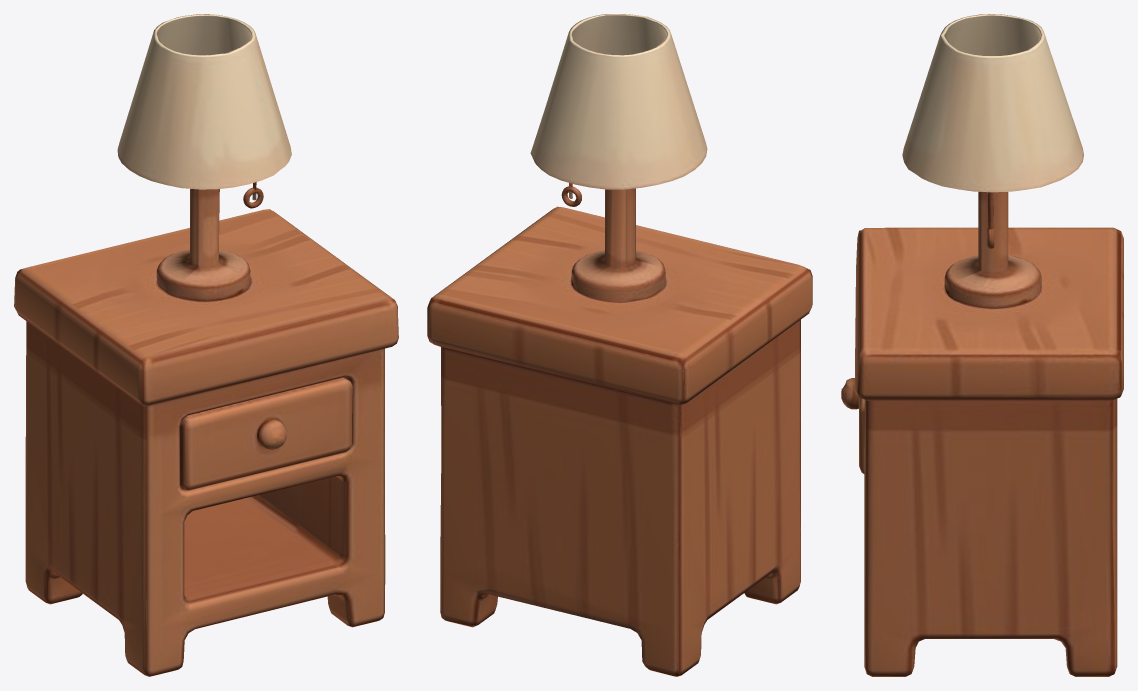
The model's file is item-nightstand.glb.
The picture shows the model from 3 angles, left to right: view 1: azimuth 30°, elevation 25°; view 2: azimuth 150°, elevation 25°; view 3: azimuth 270°, elevation 25°; orthographic projection. The views are drawn at different scales.
Bounding box in the file's own units: 0.4541 × 0.9517 × 0.417.
1 material, 1 textured.
